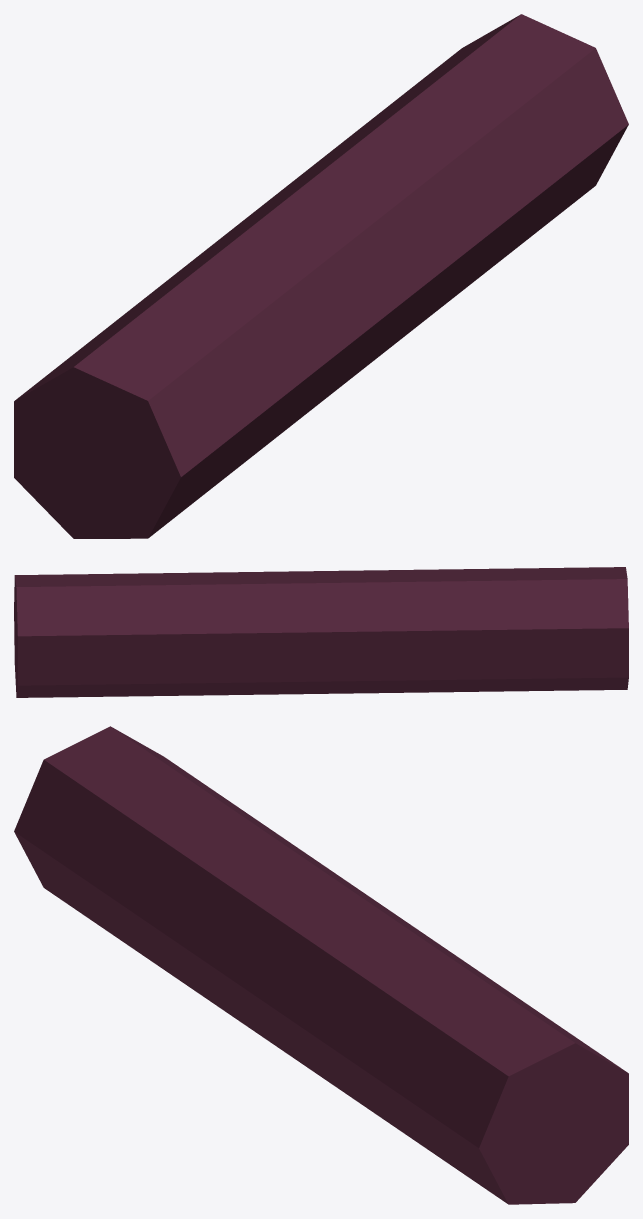
The model's file is log_002_grp.fbx.
The picture shows the model from 3 angles, top to bottom: view 1: azimuth 30°, elevation 25°; view 2: azimuth 150°, elevation 25°; view 3: azimuth 270°, elevation 25°; orthographic projection. The views are drawn at different scales.
Parts seen in each view (by area): view 1: log_002_grp; view 2: log_002_grp; view 3: log_002_grp.
Part boxes in pixels (x1,y1,x2,y2): log_002_grp: (14,14,628,538); log_002_grp: (14,567,628,697); log_002_grp: (14,726,628,1204).
Bounding box in the file's own units: 191 × 40 × 139.
